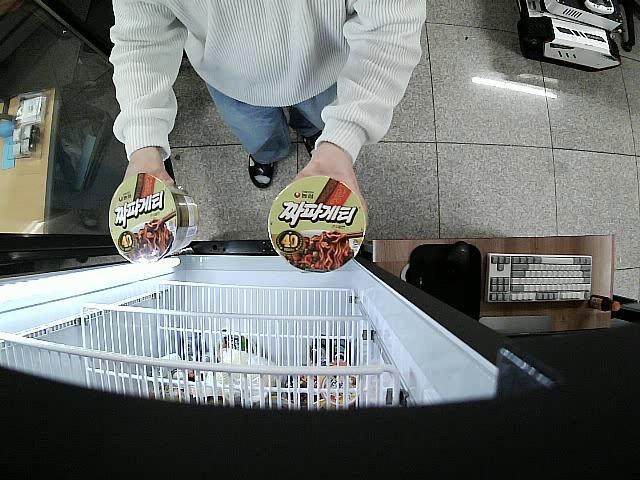00_hand: (292, 155, 369, 231)
03_chapagetti_L: (268, 175, 367, 273), (109, 173, 200, 265)
